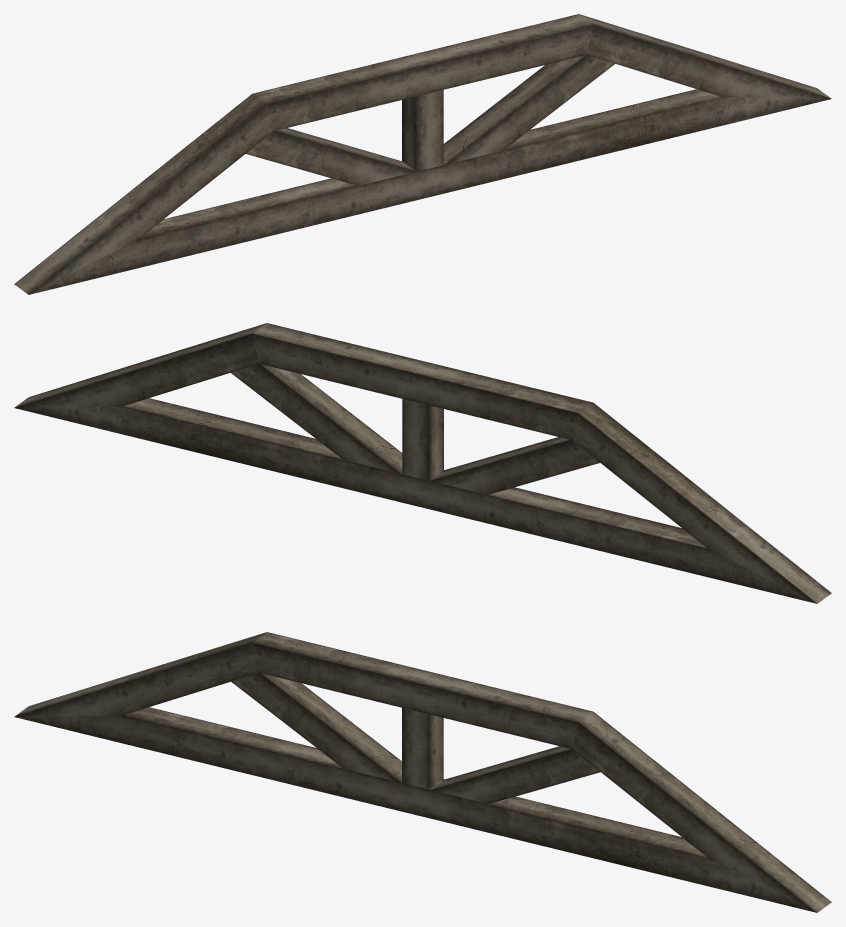
The model's file is OrnamentalWall_01.DAE.
3 renders of one model, top to bottom at view 1: azimuth 30°, elevation 25°; view 2: azimuth 150°, elevation 25°; view 3: azimuth 330°, elevation 25°, orthographic.
Visible parts, largest first — view 1: Object020; view 2: Object020; view 3: Object020.
Boxes of the visible parts, bbox=[...] form: Object020: bbox=[14, 14, 831, 294]; Object020: bbox=[14, 323, 831, 603]; Object020: bbox=[14, 632, 831, 912].
Bounding box in the file's own units: 10.03 × 1.58 × 0.3177.
